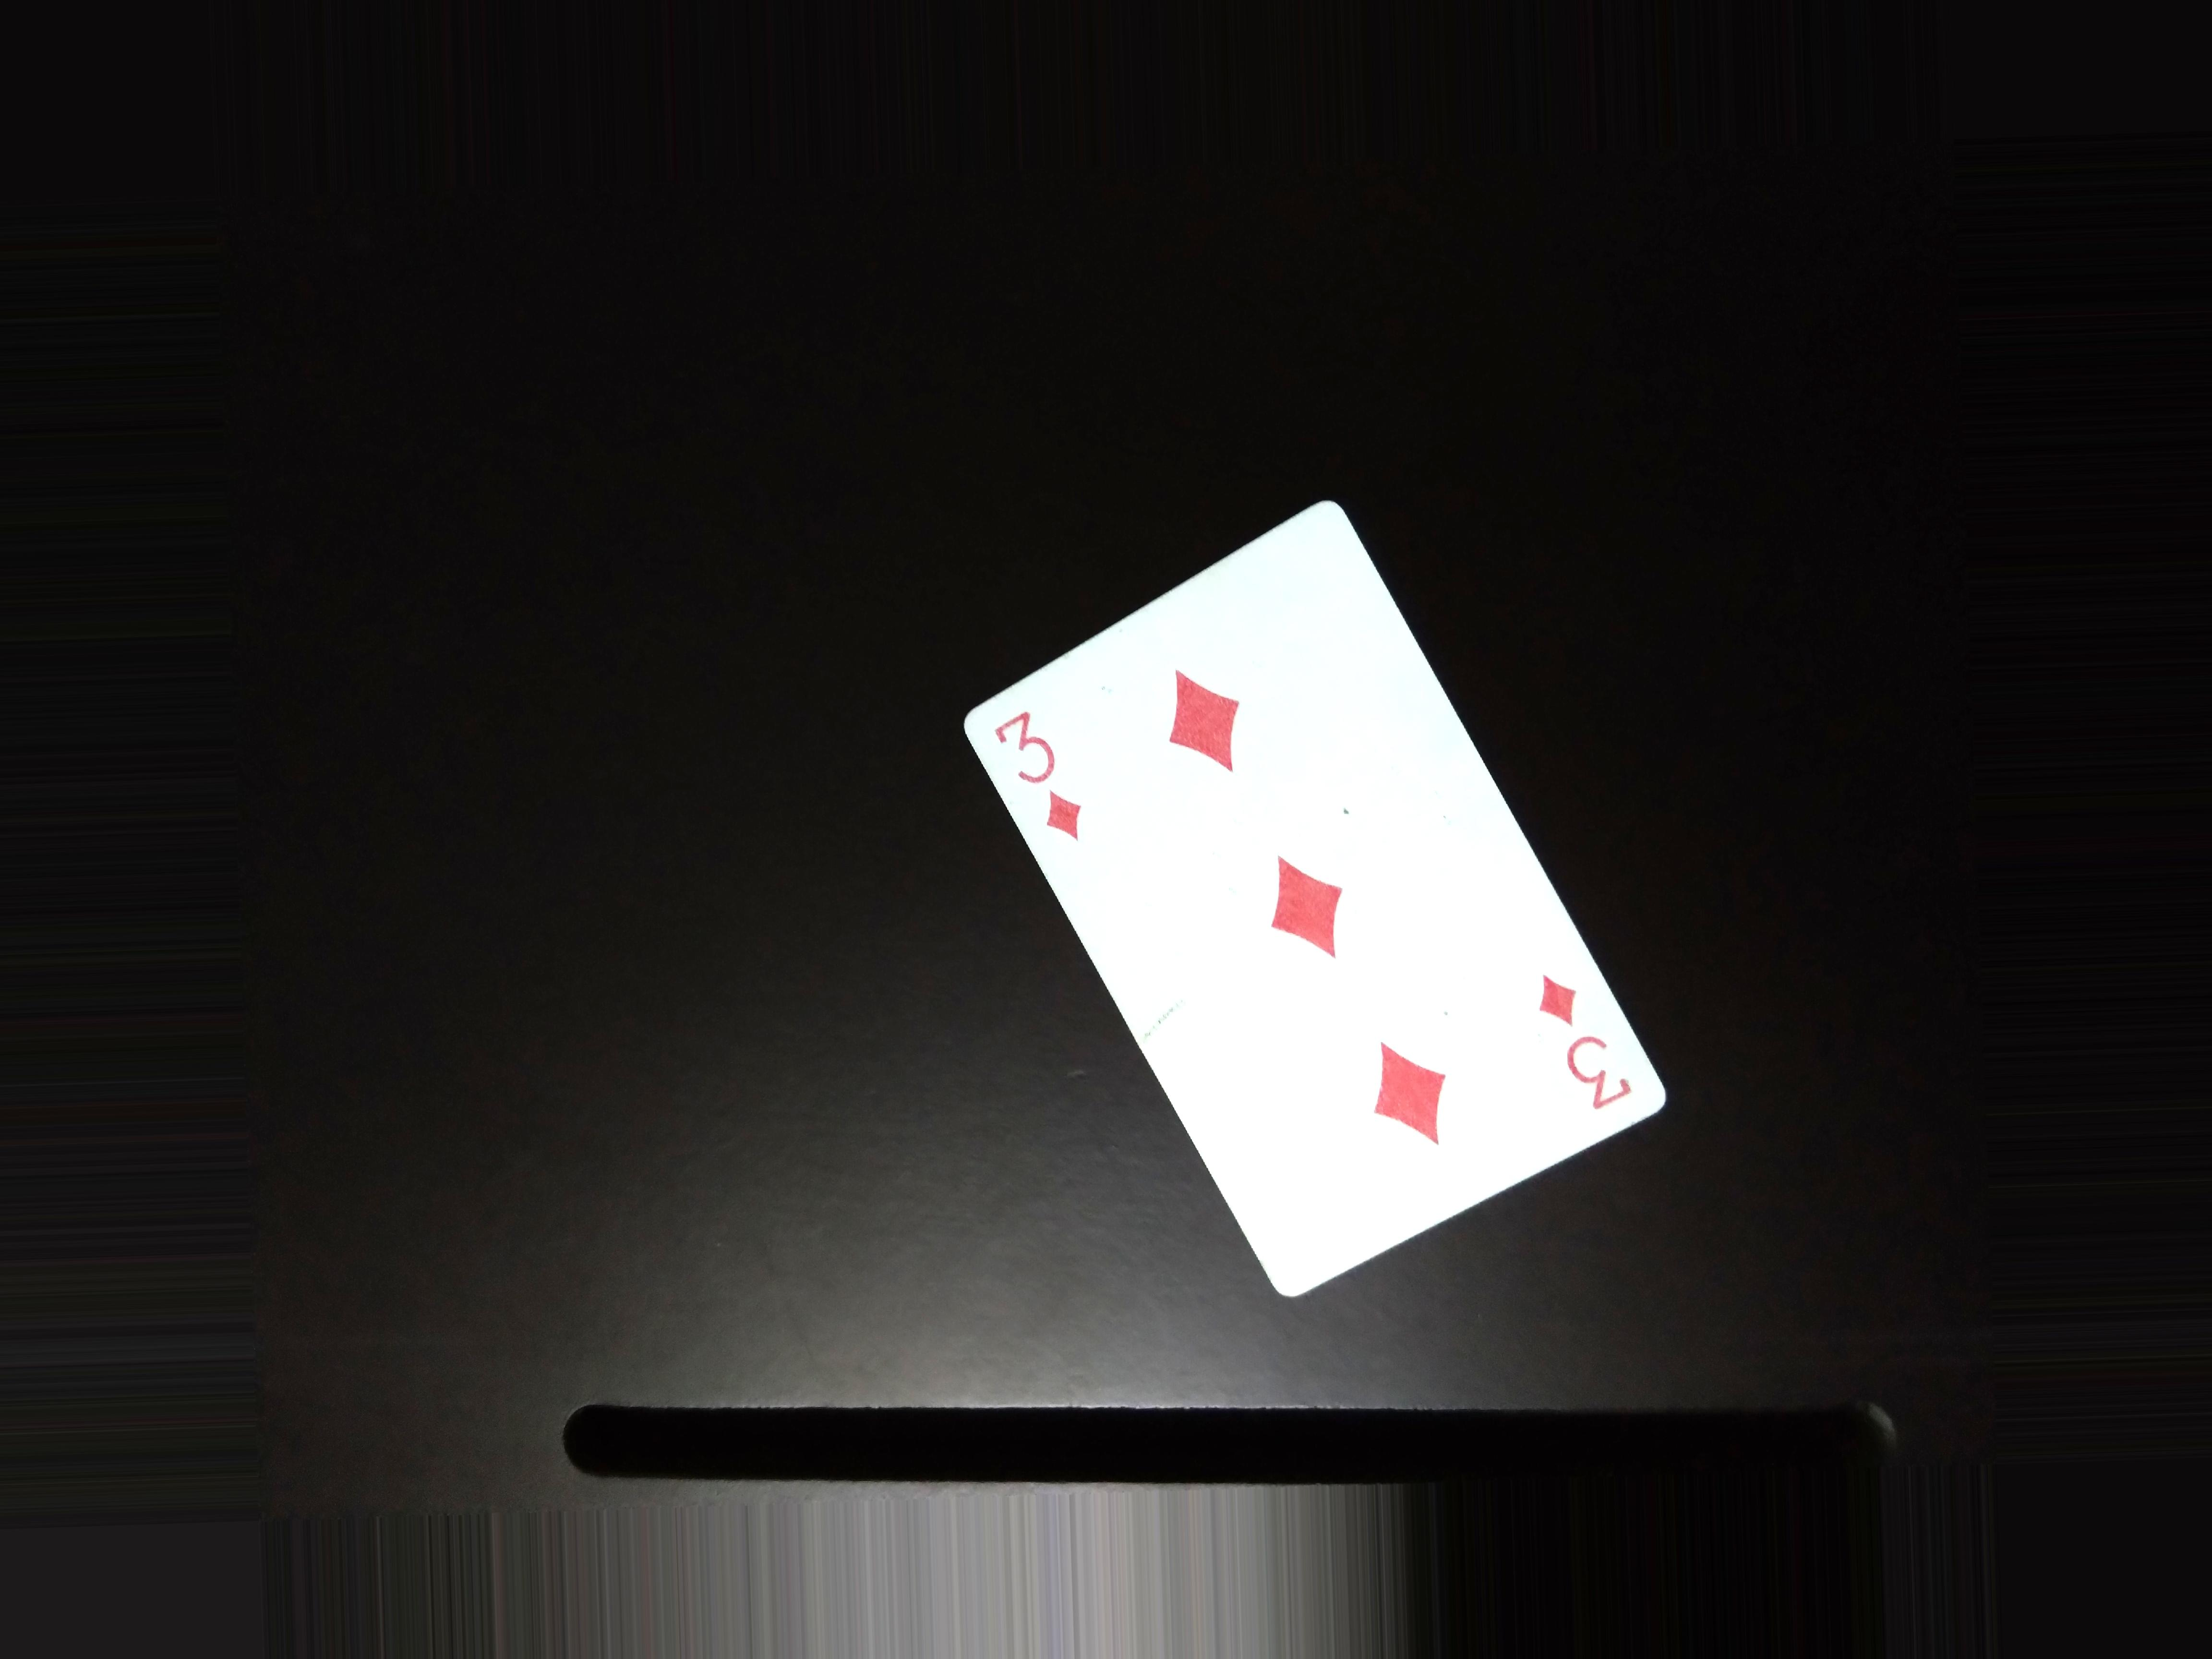3D: (963, 704, 1106, 864)
